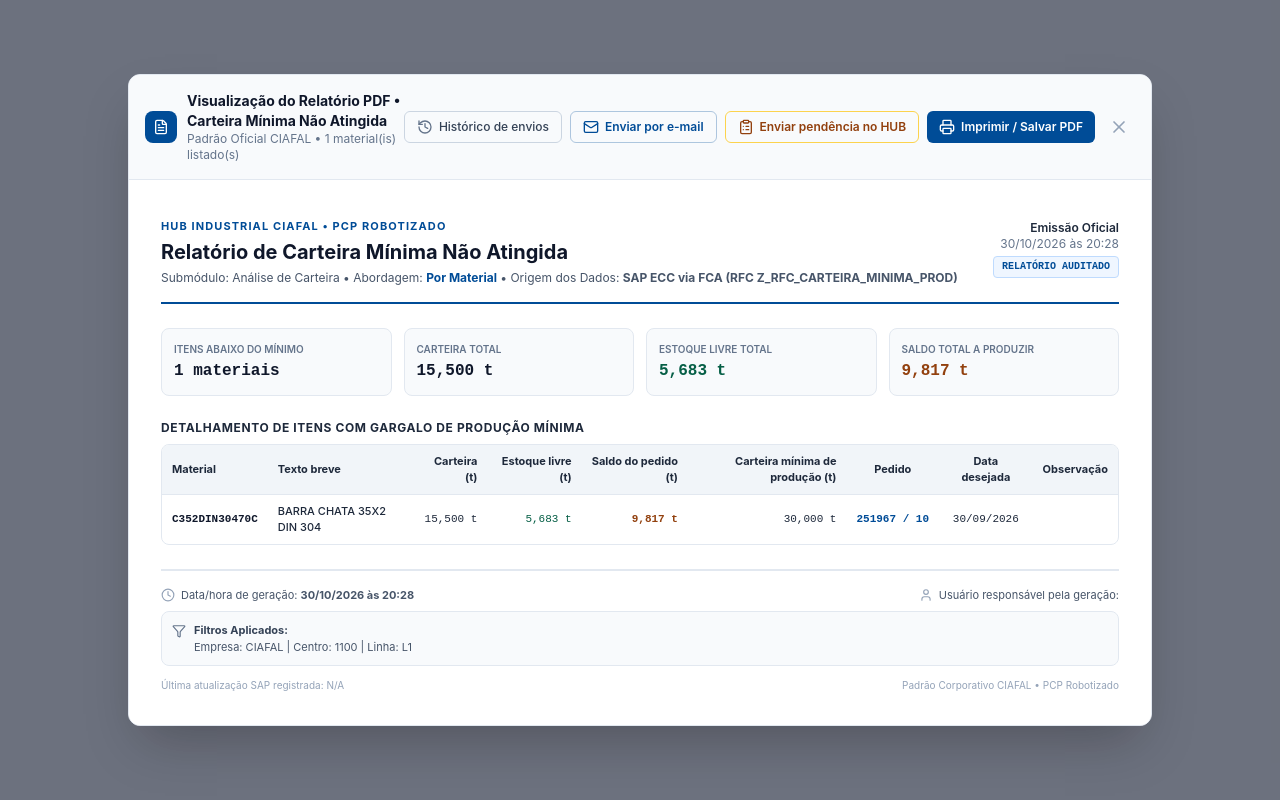
Test: UI: CarteiraMinimaPdfModal e Novos Modais de Ação › deve abrir modal secundário de pendência ao clicar em Enviar pendência no HUB
Click the button "Enviar pendência no HUB" at (822, 127), box [724,111,919,143]
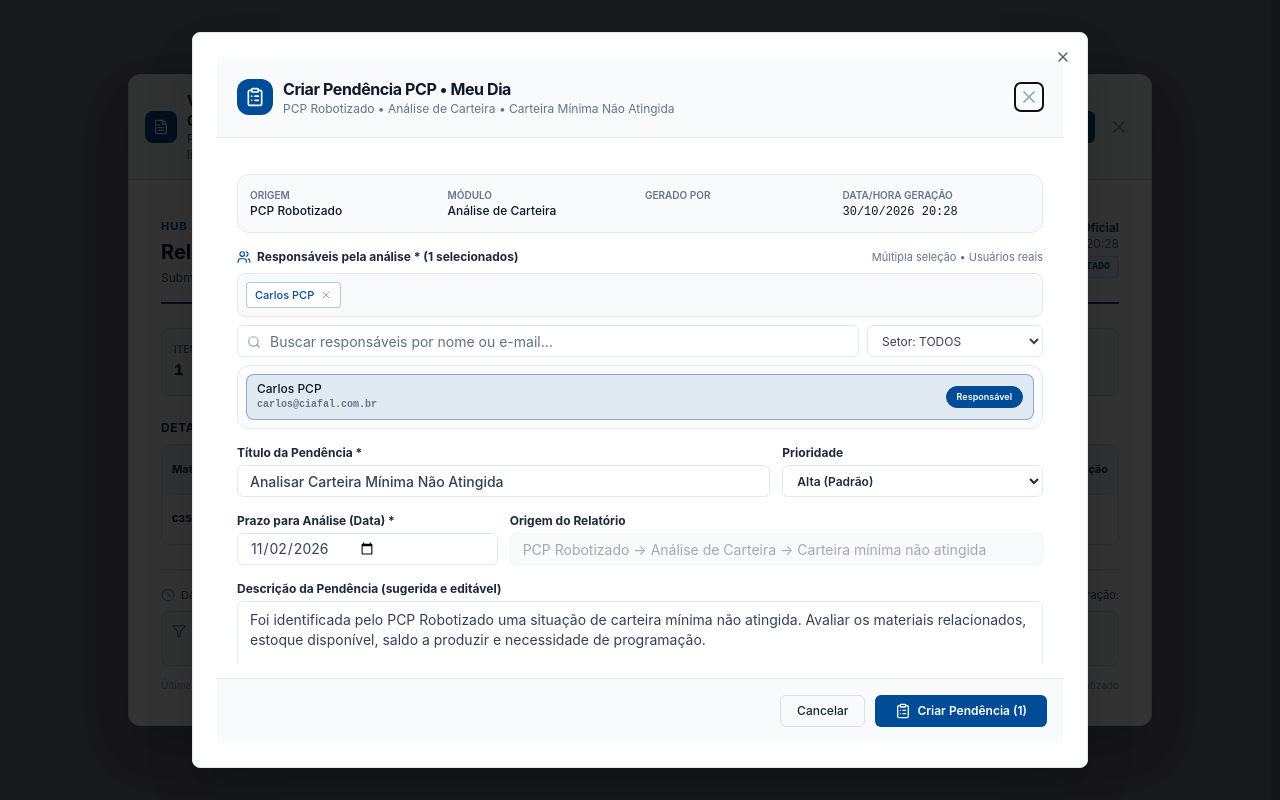
Now the heading "Criar Pendência PCP • Meu Dia" is shown, box [283,79,511,99]
Now the field showing "Analisar Carteira Mínima Não Atingida" below "Título da Pendência *" is shown, box [237,465,770,497]
